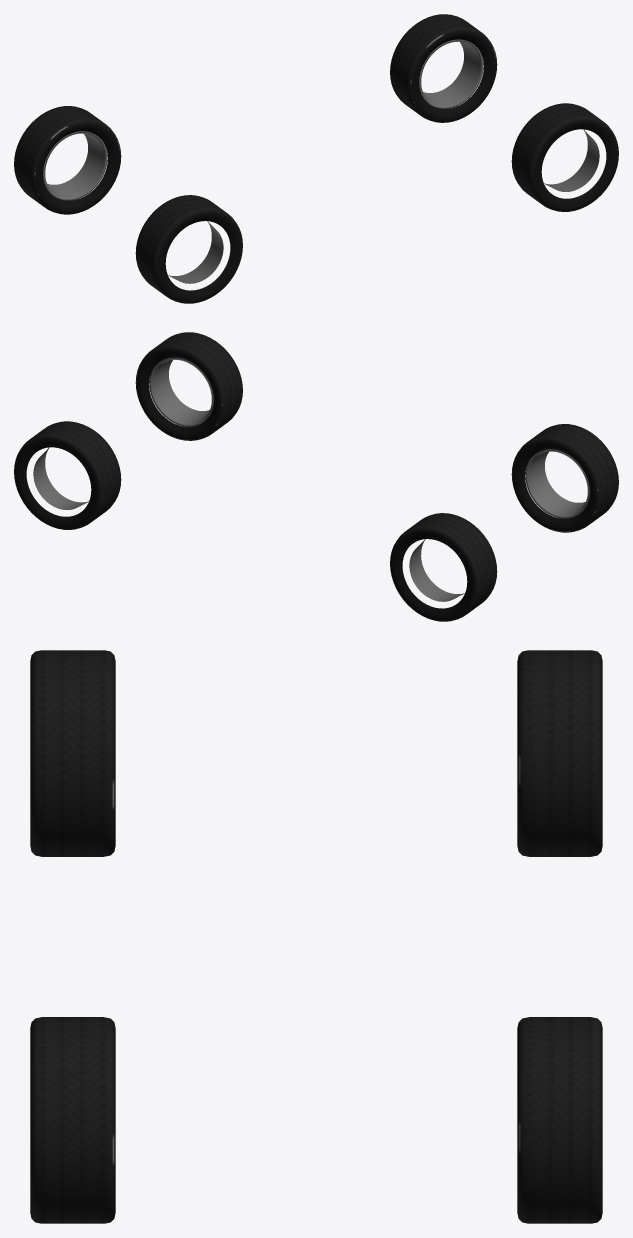
Rendered from tiretire.glb.
3 renders of one model, top to bottom at view 1: azimuth 30°, elevation 25°; view 2: azimuth 150°, elevation 25°; view 3: azimuth 270°, elevation 25°, orthographic. The views are drawn at different scales.
Parts seen in each view (by area): view 1: suliaolunzi003001, suliaolunzi002001, suliaolunzi001, suliaolunzi001001; view 2: suliaolunzi001001, suliaolunzi001, suliaolunzi002001, suliaolunzi003001; view 3: suliaolunzi003001, suliaolunzi001, suliaolunzi001001, suliaolunzi002001.
Part boxes in pixels (left/top/right/bottom): suliaolunzi003001: left=14, top=106, right=121, bottom=214; suliaolunzi002001: left=390, top=14, right=497, bottom=122; suliaolunzi001: left=511, top=103, right=618, bottom=211; suliaolunzi001001: left=135, top=195, right=242, bottom=303; suliaolunzi001001: left=511, top=424, right=618, bottom=532; suliaolunzi001: left=135, top=332, right=242, bottom=440; suliaolunzi002001: left=14, top=421, right=121, bottom=529; suliaolunzi003001: left=390, top=513, right=497, bottom=621; suliaolunzi003001: left=517, top=650, right=602, bottom=856; suliaolunzi001: left=30, top=1017, right=115, bottom=1223; suliaolunzi001001: left=30, top=650, right=115, bottom=856; suliaolunzi002001: left=517, top=1017, right=602, bottom=1223.
Bounding box in the file's own units: 333 × 64.01 × 177.
Materials: 1 (1 with a texture image).
